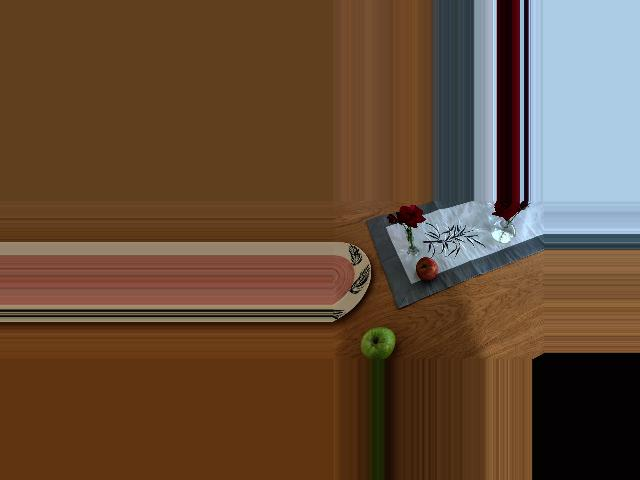apple: (358, 325, 397, 360)
